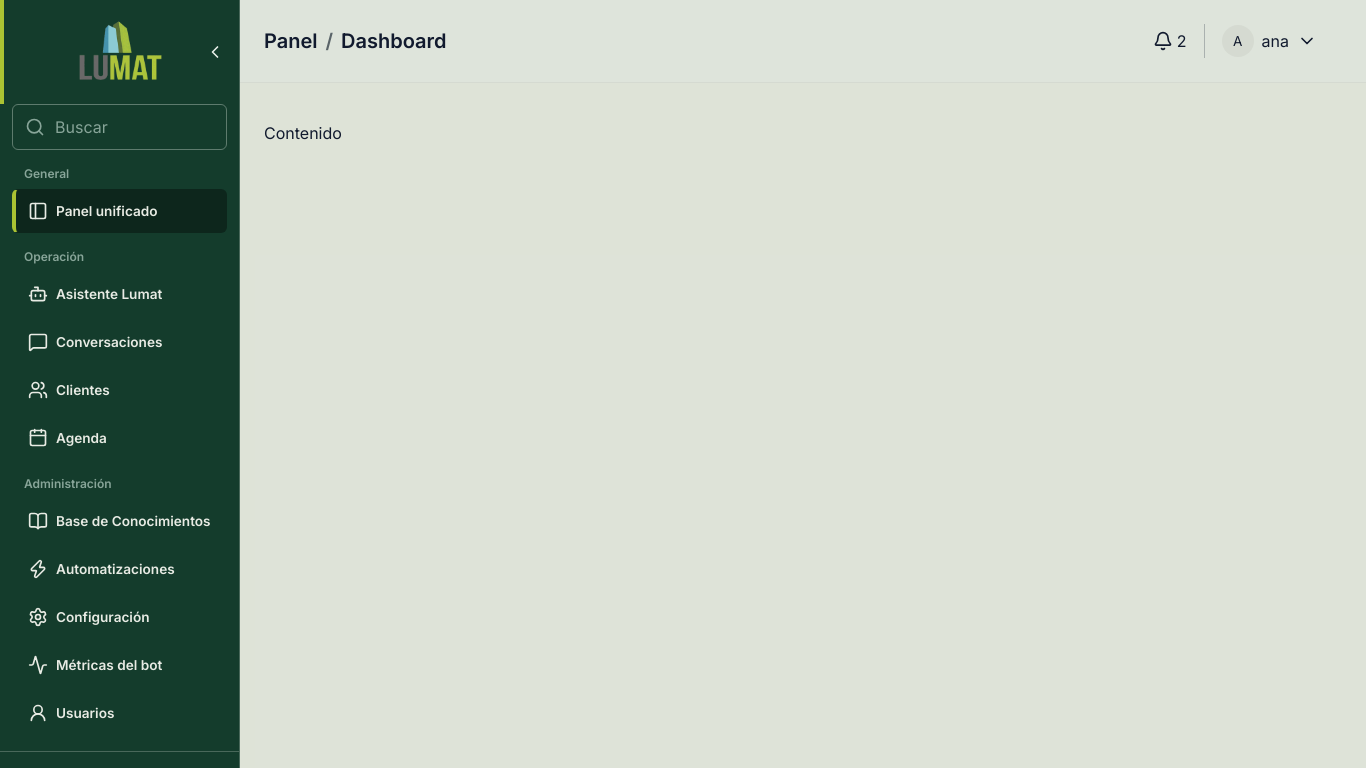
it: PanelShell rail contract (2C-1) › keeps notification and account accessible header actions functional
Click the button named "Notificaciones (2 sin leer)" at coordinates (1170, 41), box [1144,19,1196,63]
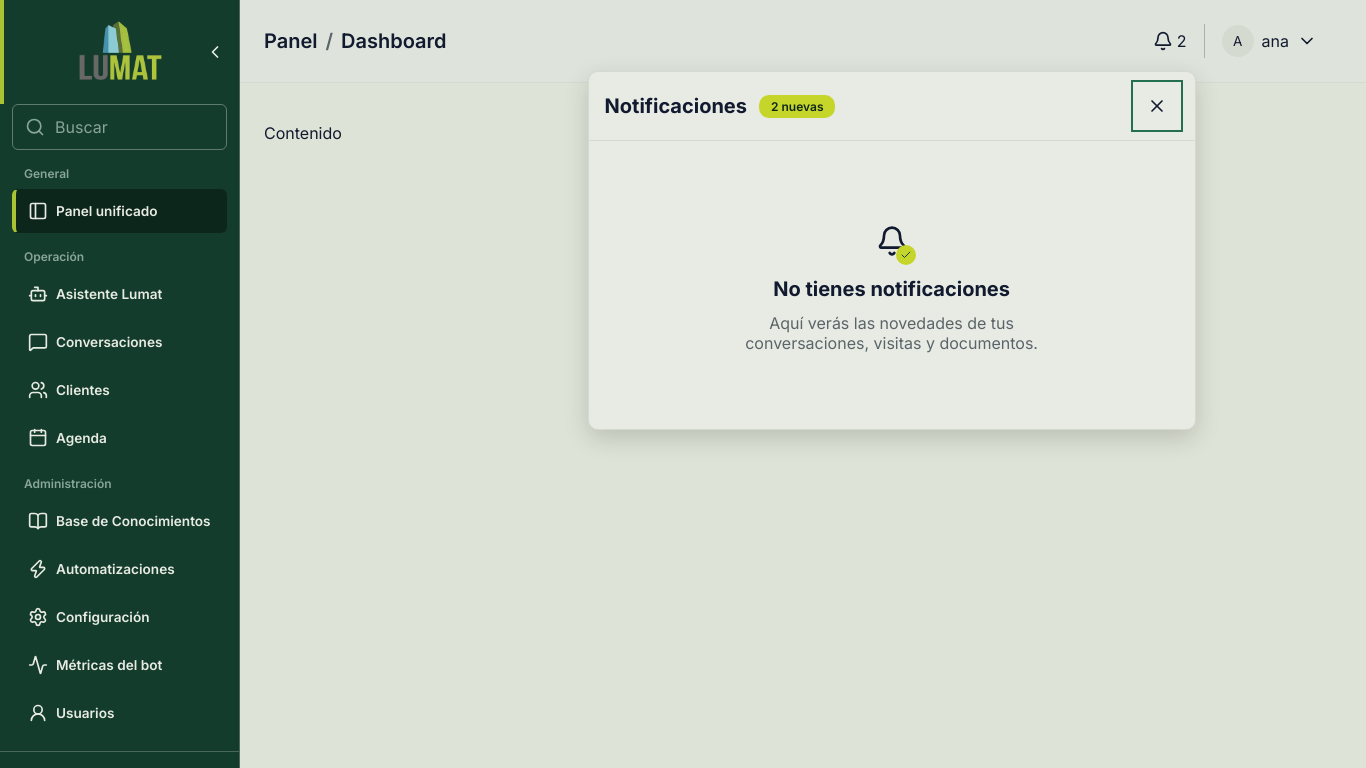
Expected: the dialog "Notificaciones" is shown, [588,71,1196,430]
Click the button named "Cerrar notificaciones" at coordinates (1157, 106), box [1135,84,1179,128]
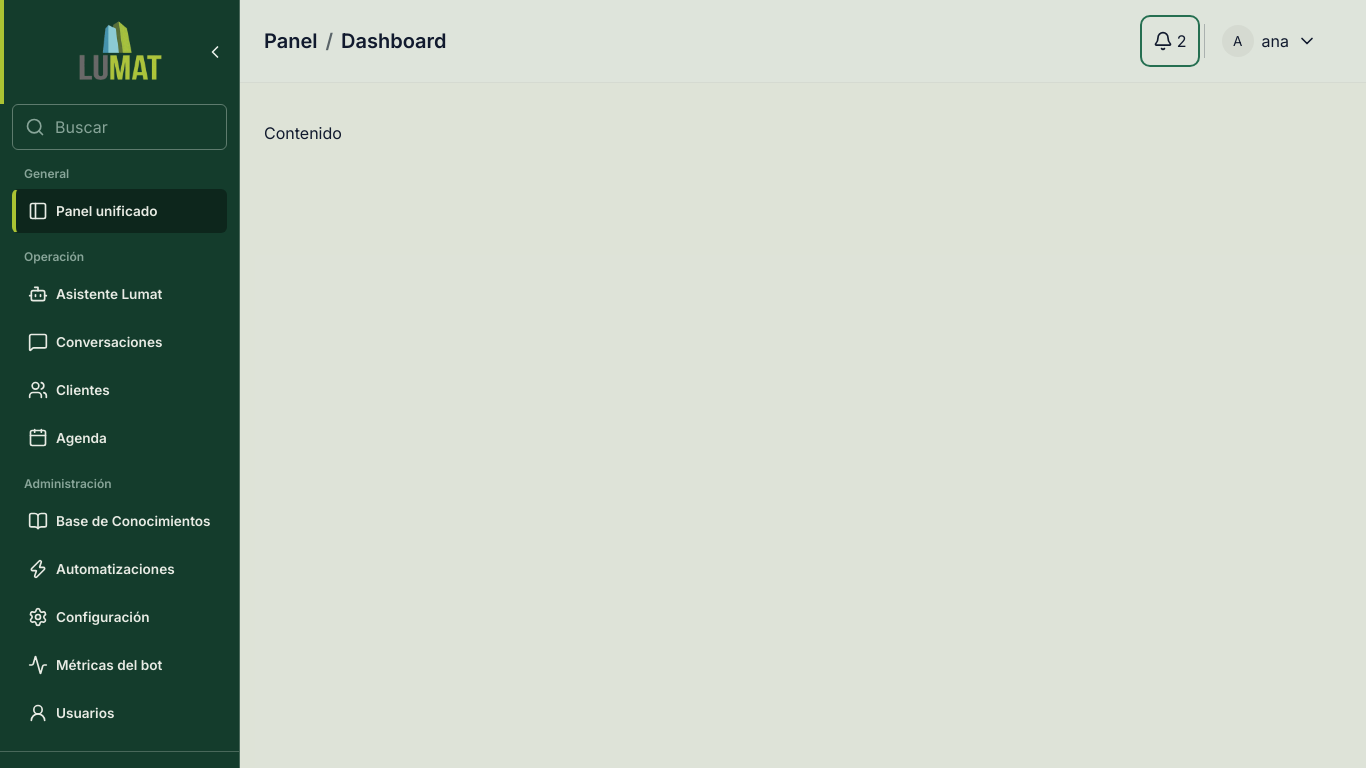
Click the button with aria-label "Abrir menú de usuario" at coordinates (1269, 41), box [1213,16,1326,66]
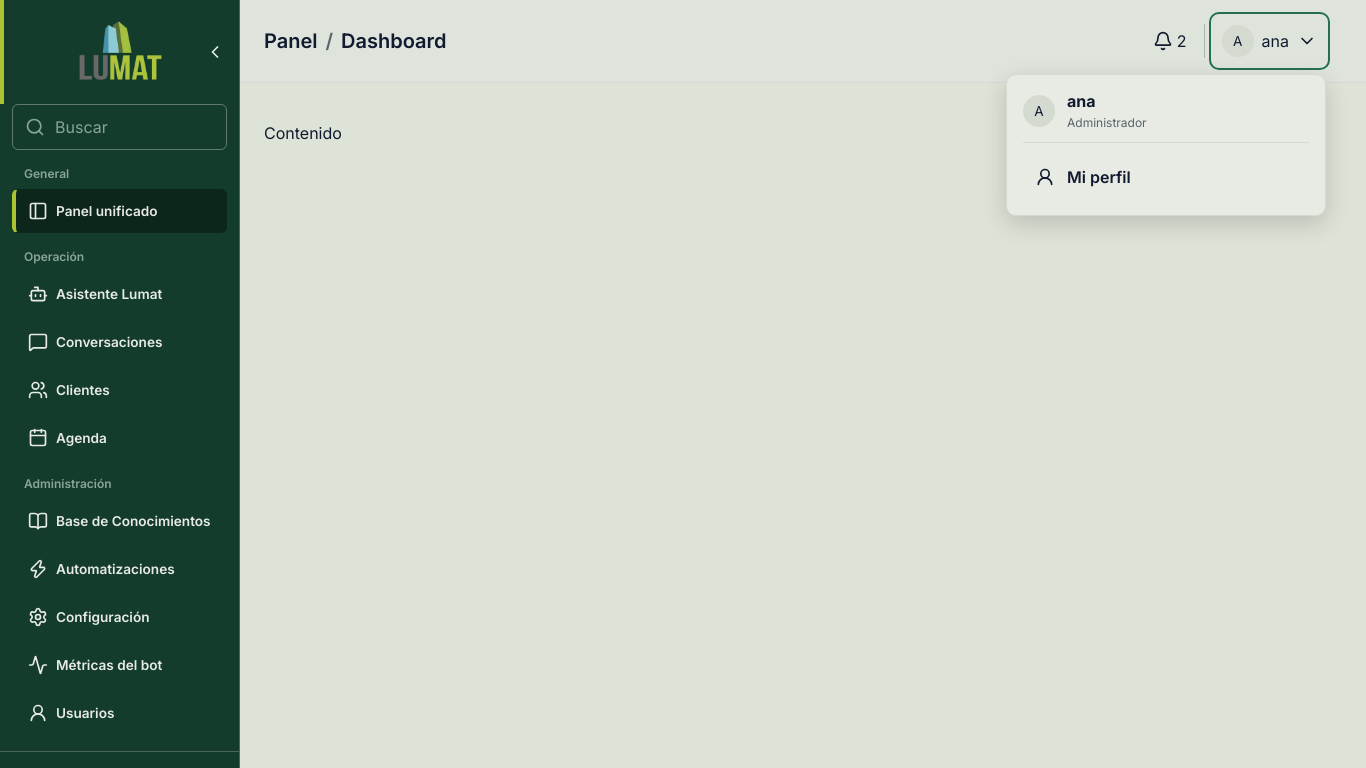
Expected: the menu named "Cuenta de ana" is shown, [1006,74,1326,216]
